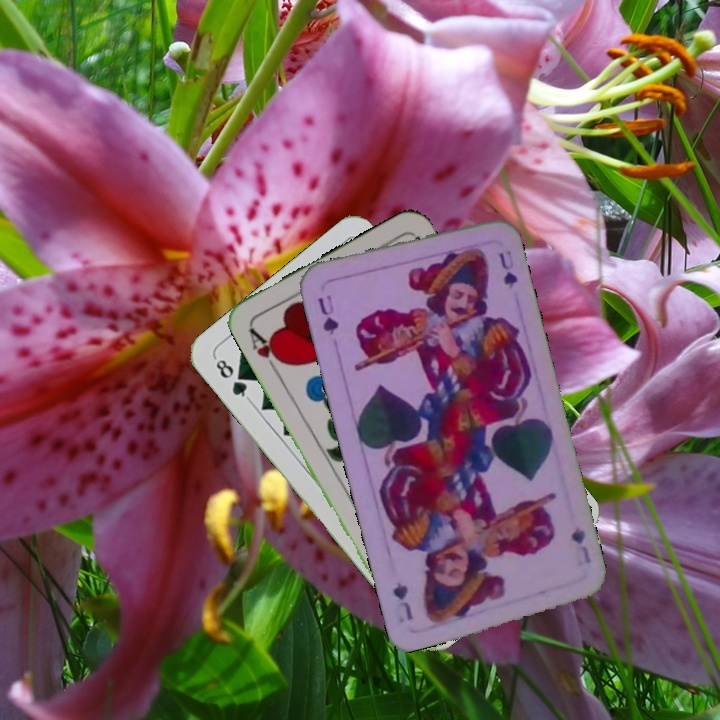G8: (210, 353, 253, 403)
GU: (313, 291, 341, 338), (567, 523, 594, 566)
HA: (245, 323, 287, 376)
